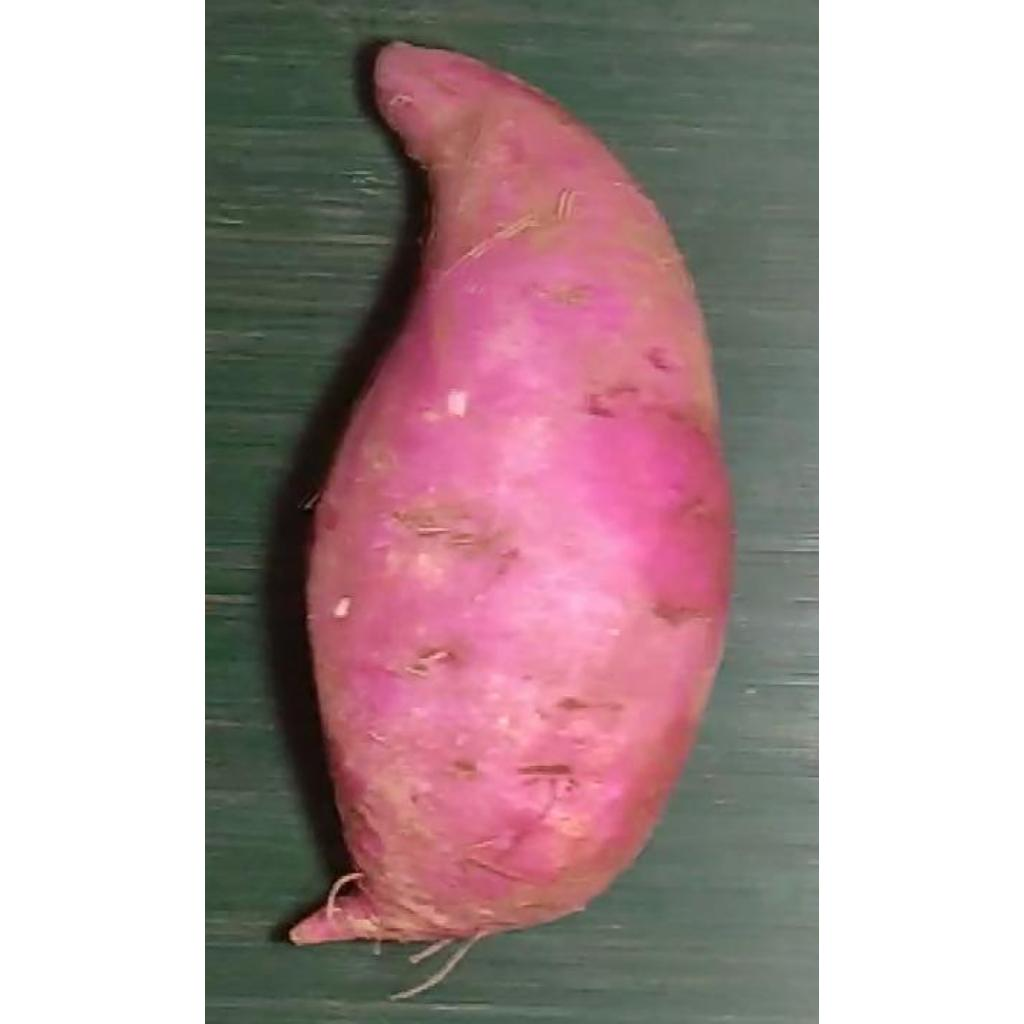Sweet Potato: (289, 42, 733, 949)
